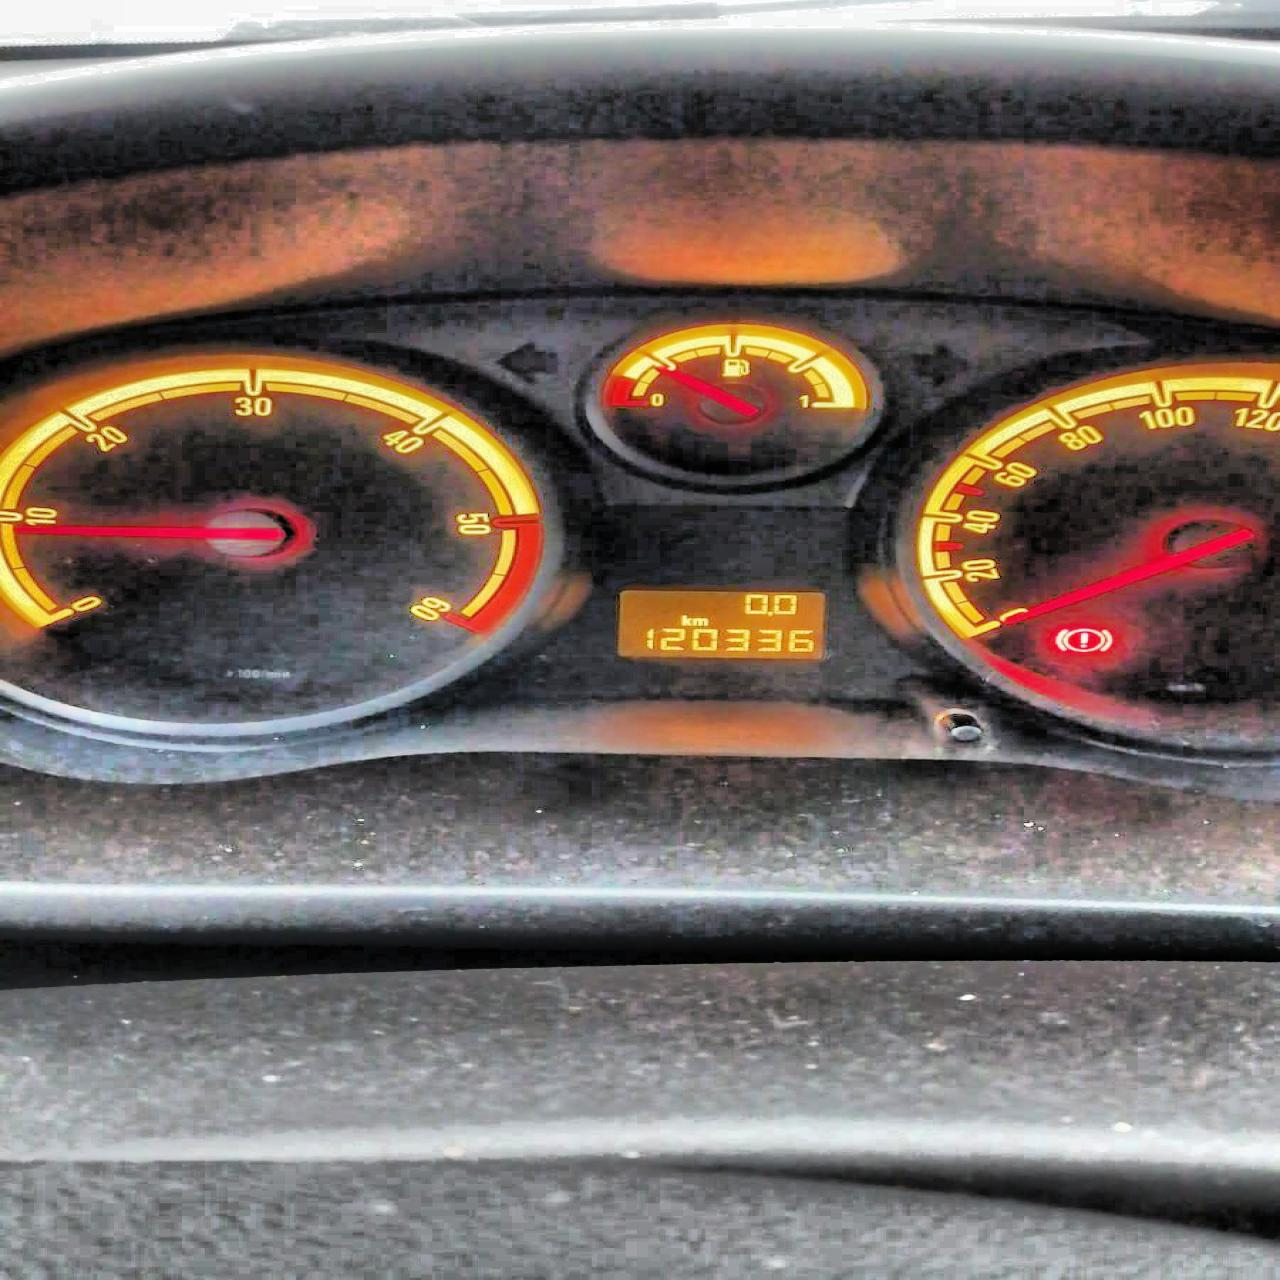-: (765, 611, 772, 617)
0: (690, 628, 717, 651), (742, 593, 768, 614), (772, 593, 797, 613)
1: (645, 628, 653, 649)
2: (659, 627, 685, 651)
3: (722, 628, 749, 652), (755, 628, 781, 652)
6: (787, 629, 813, 652)
X: (692, 617, 708, 626), (680, 614, 692, 625)
odometer: (614, 588, 826, 660)
